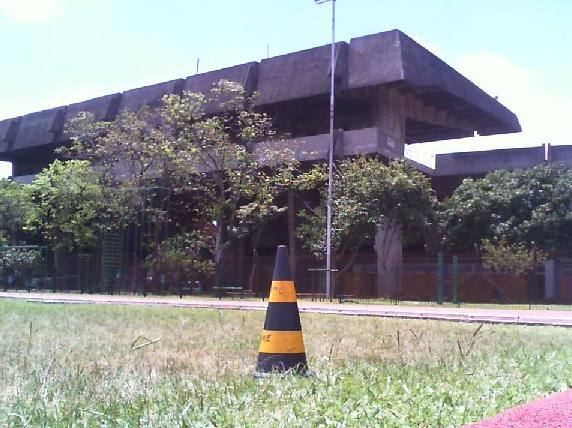0 cone: (249, 244, 315, 378)
